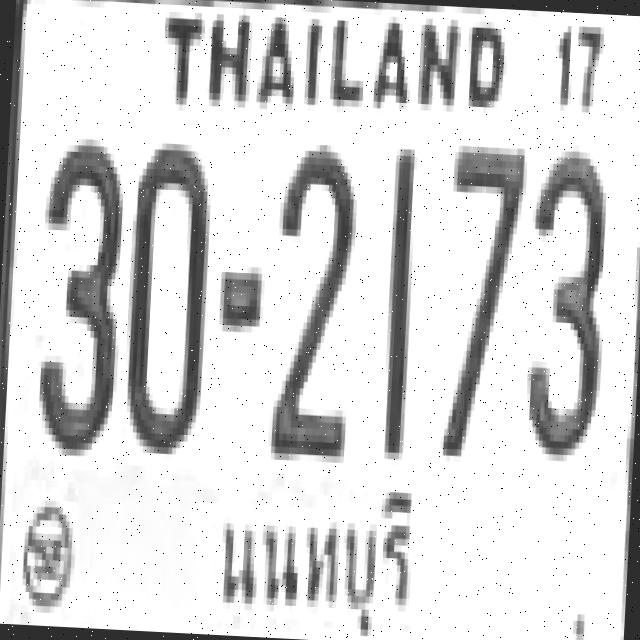0: (122, 136, 210, 448)
1: (377, 139, 416, 456)
2: (268, 136, 356, 456)
3: (520, 144, 609, 456), (34, 134, 122, 448)
7: (436, 139, 525, 452), (438, 136, 525, 410)
Nonthaburi: (206, 477, 434, 640)
